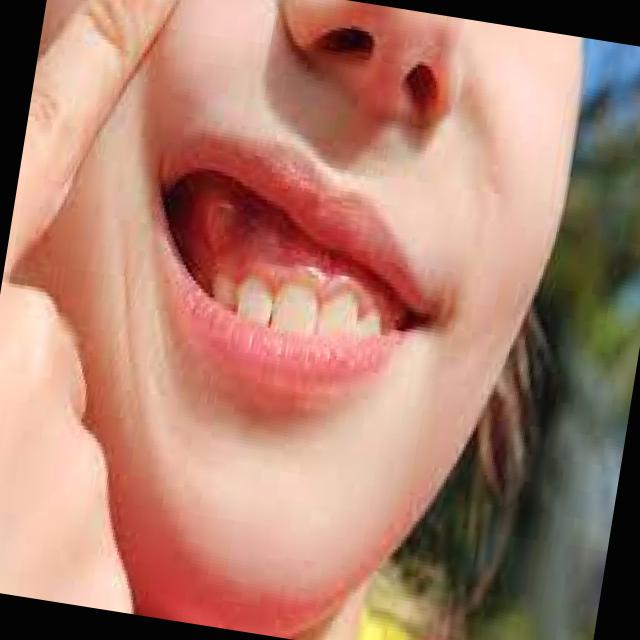abscess: (170, 178, 270, 260)
